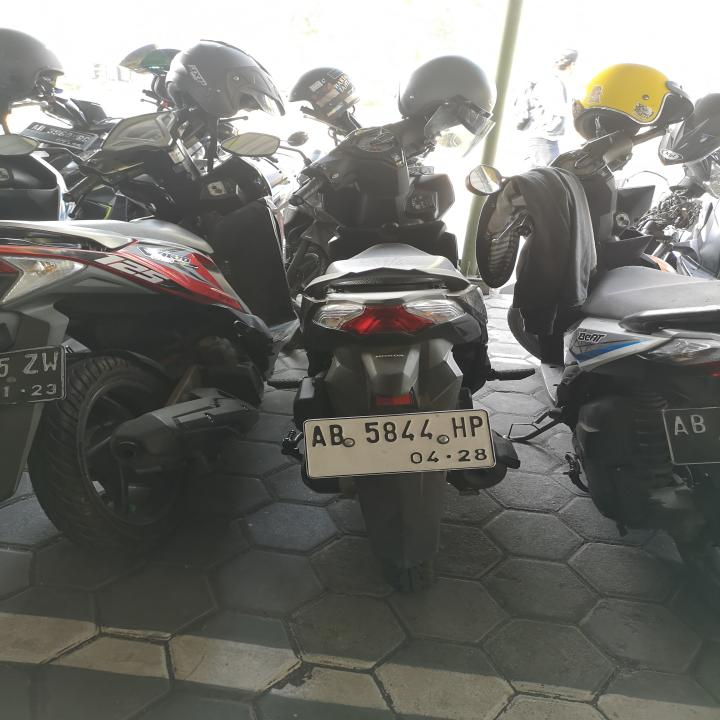plate: (302, 406, 498, 482)
